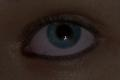eye: (47, 21, 82, 48)
